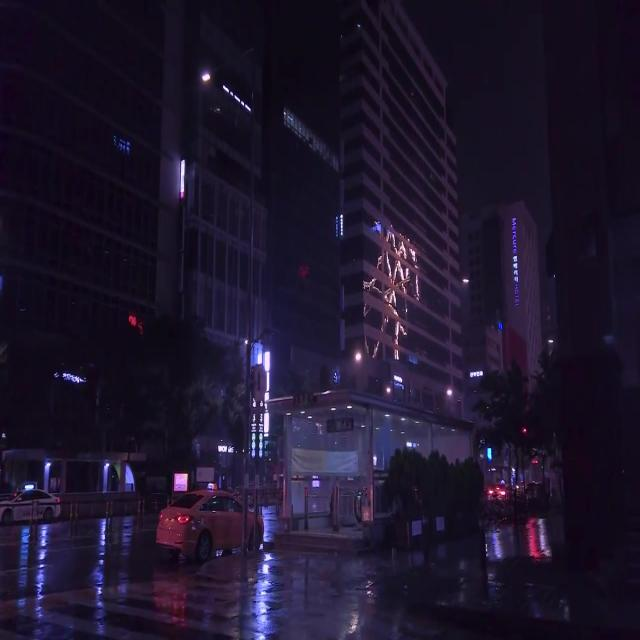Car: (156, 486, 260, 560)
